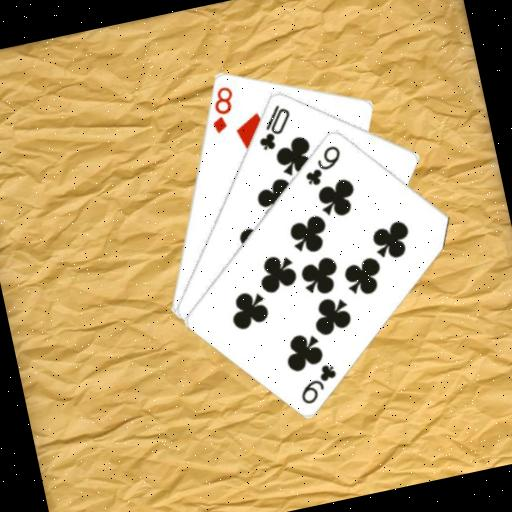10C: (248, 98, 298, 153)
8D: (202, 81, 242, 136)
9C: (296, 140, 347, 189), (292, 358, 343, 407)
